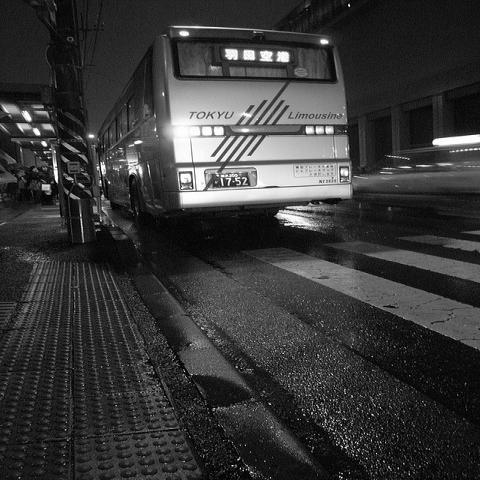bus: (90, 28, 345, 214)
car: (350, 142, 479, 220)
